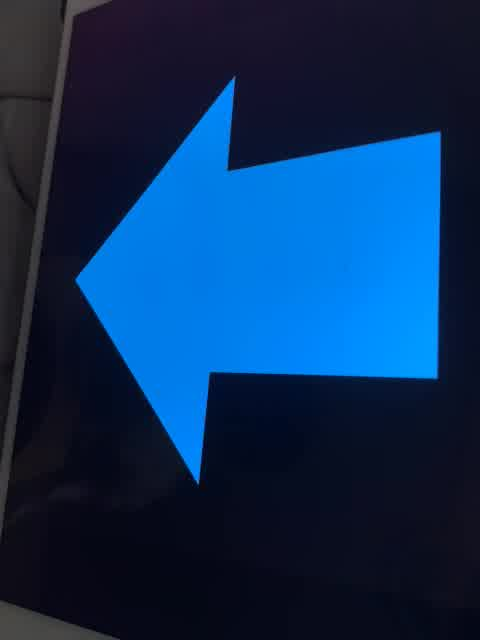left: (61, 69, 453, 494)
